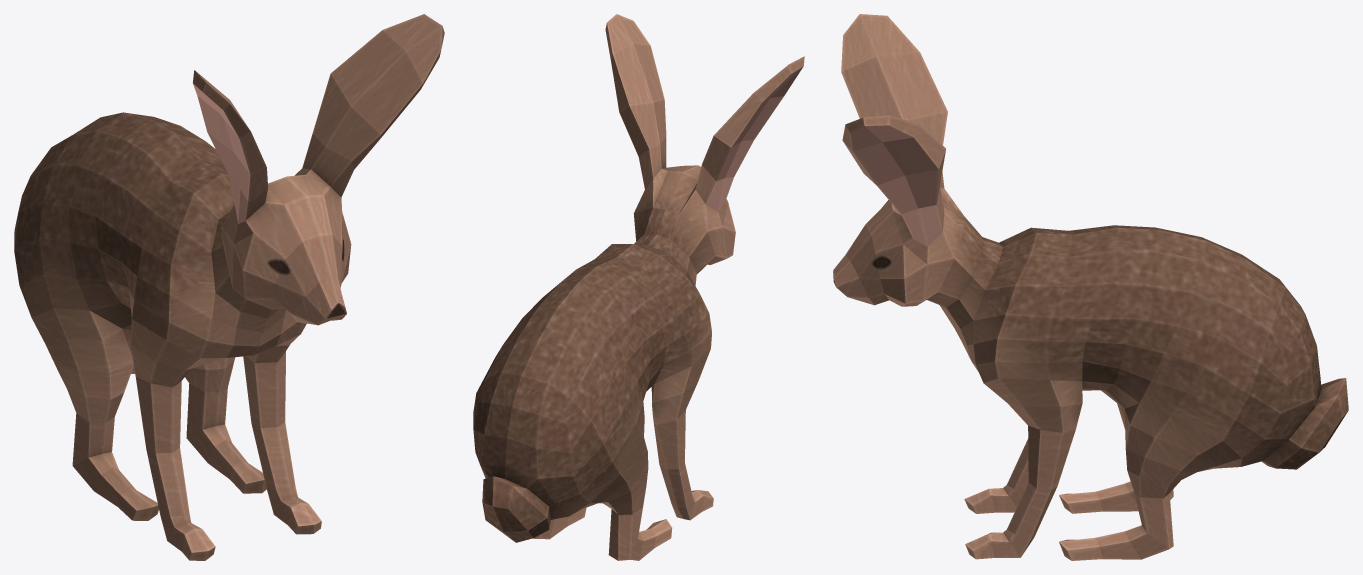
Rendered from liebre.glb.
3 views of the same model, side by side, from view 1: azimuth 30°, elevation 25°; view 2: azimuth 150°, elevation 25°; view 3: azimuth 270°, elevation 25° (orthographic). The views are drawn at different scales.
Parts seen in each view (by area): view 1: JackRabbit_mesh; view 2: JackRabbit_mesh; view 3: JackRabbit_mesh.
Boxes of the visible parts, x1,y1,x2,y2 form: JackRabbit_mesh: (14, 14, 444, 560); JackRabbit_mesh: (473, 14, 804, 560); JackRabbit_mesh: (833, 14, 1348, 560).
Size of the model in its own units: 3.29 by 7 by 6.98.
1 material, 1 textured.
